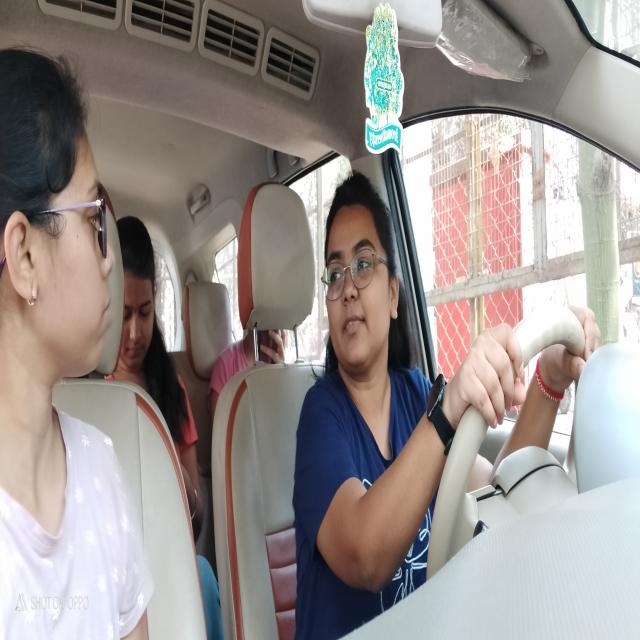LeftRight: (320, 171, 402, 378)
person: (0, 36, 117, 377), (118, 210, 159, 368), (251, 322, 298, 372)
